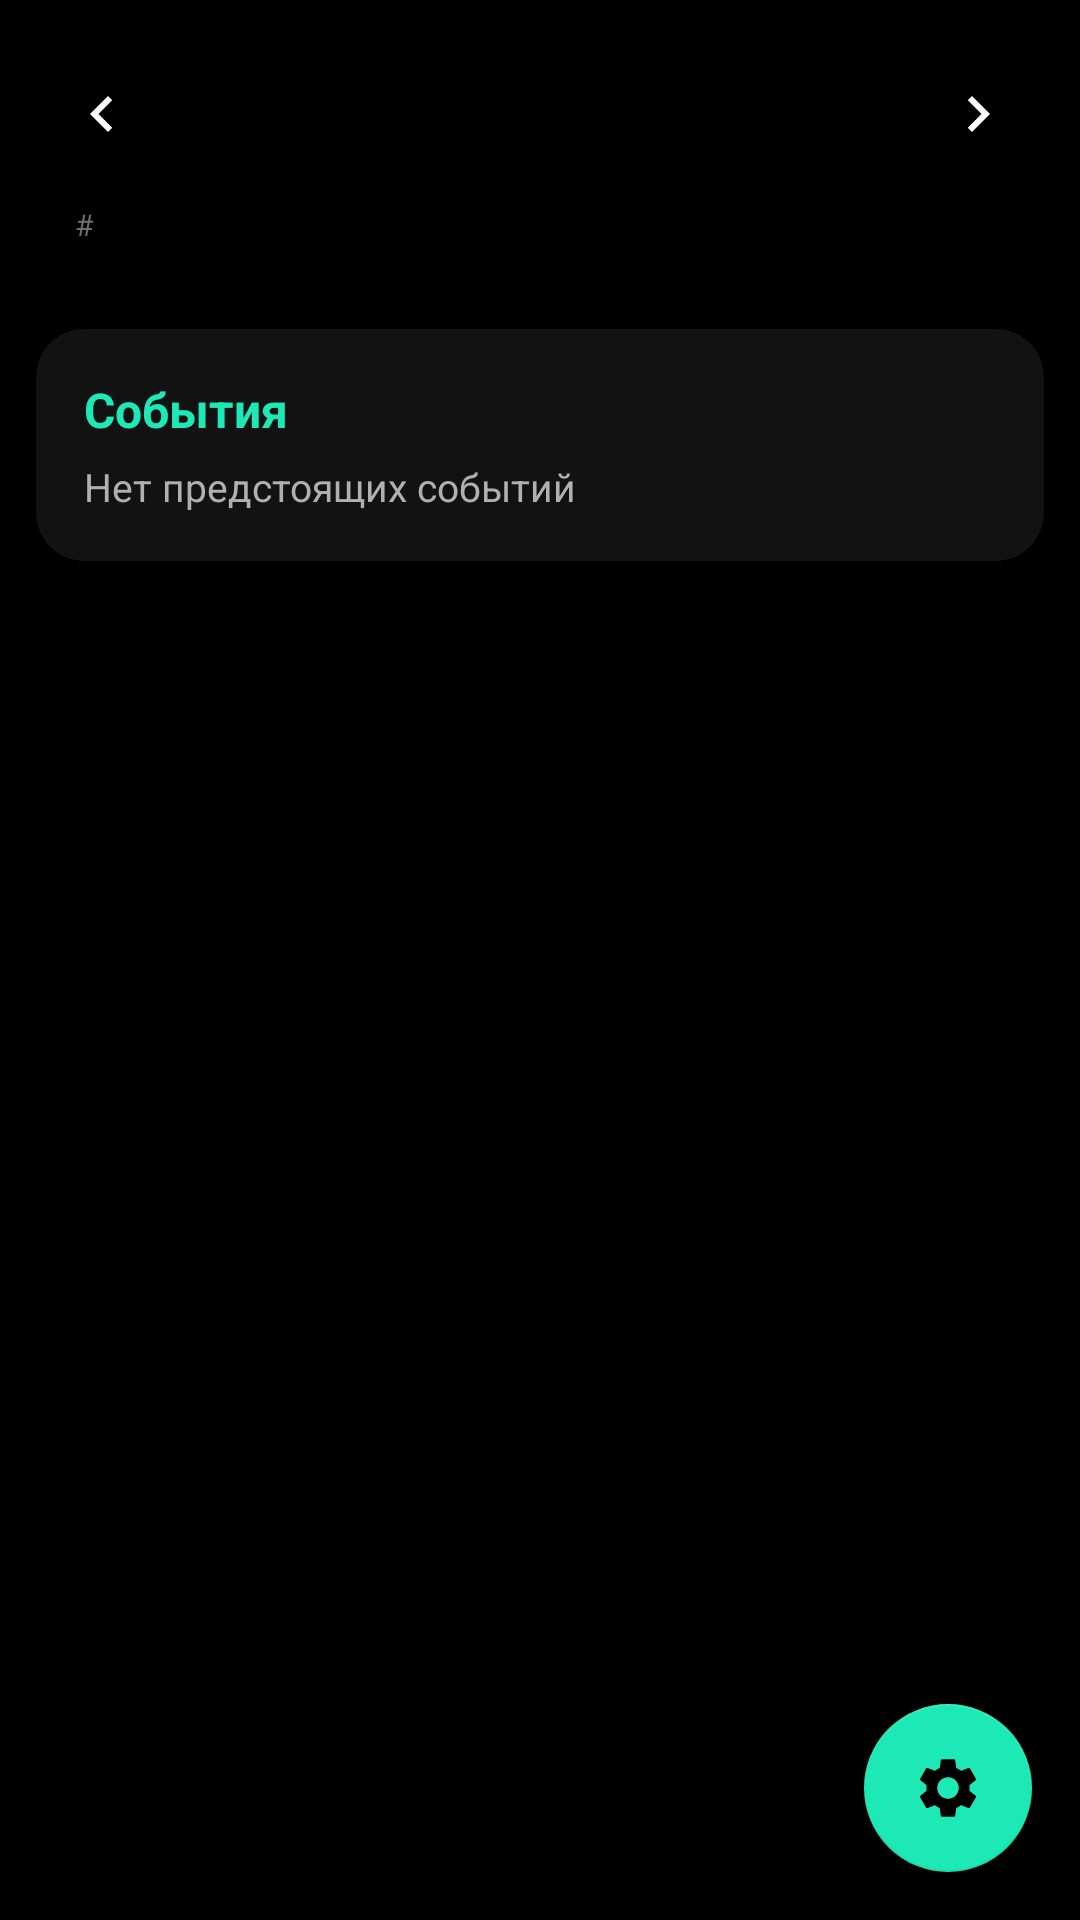

Icons on this 1080 x 1920 Android screen, each with its box as (x1, y1, x2, y2):
Настройки: (864, 1704, 1032, 1872)
Предыдущий месяц: (90, 96, 112, 132)
Следующий месяц: (968, 96, 990, 132)
